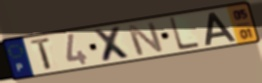4: (64, 32, 89, 67)
A: (204, 11, 239, 47)
L: (167, 16, 202, 53)
N: (125, 20, 167, 57)
T: (29, 36, 54, 73)
X: (91, 25, 135, 64)
